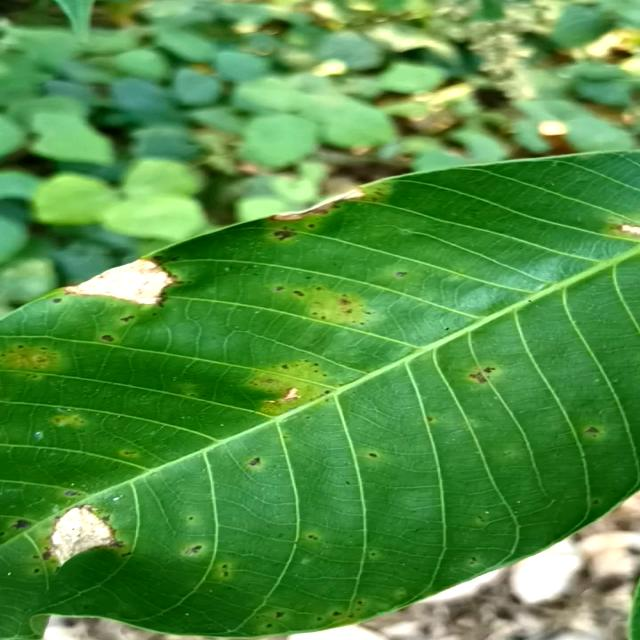Leaf-Blight: (68, 258, 174, 304), (52, 506, 116, 567), (275, 188, 364, 220), (619, 225, 640, 234)
